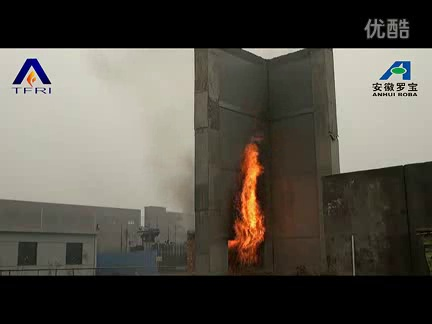fire: (226, 140, 270, 269)
